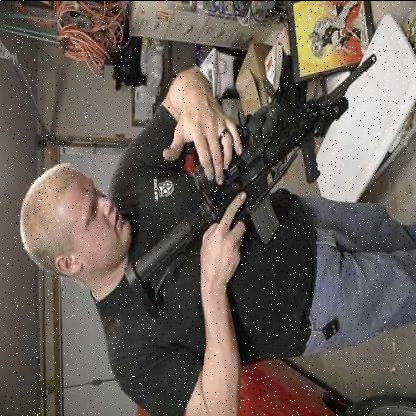rifle: (116, 28, 389, 317)
